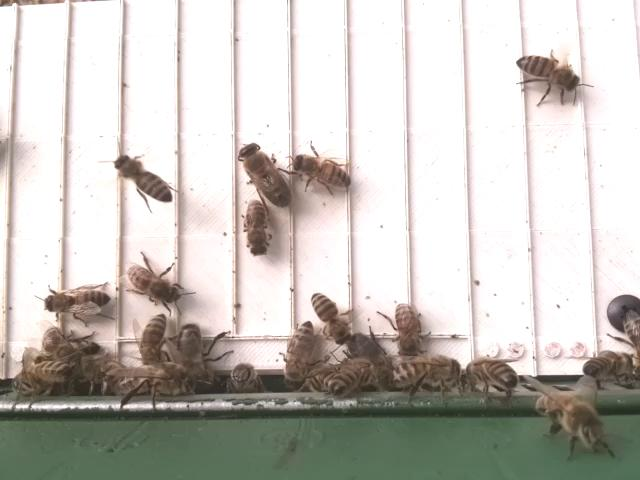Drone: (237, 139, 294, 210)
Worker: (112, 151, 175, 207), (513, 51, 581, 96), (126, 262, 183, 307), (309, 288, 351, 348), (42, 284, 113, 319), (282, 319, 317, 389), (291, 153, 355, 191), (390, 355, 462, 388), (391, 299, 423, 359), (139, 311, 171, 371), (241, 198, 273, 257)
